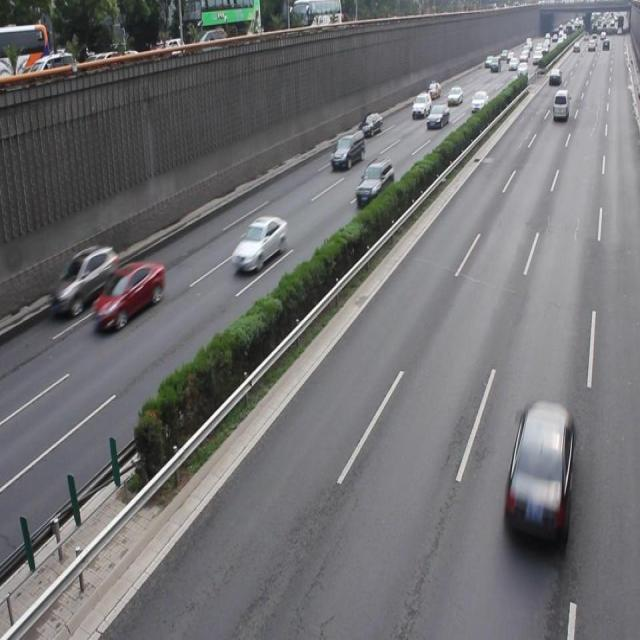car: (501, 401, 573, 550), (90, 259, 164, 330), (51, 243, 119, 313), (230, 214, 286, 270), (354, 159, 394, 205)
truck: (329, 128, 364, 168)
